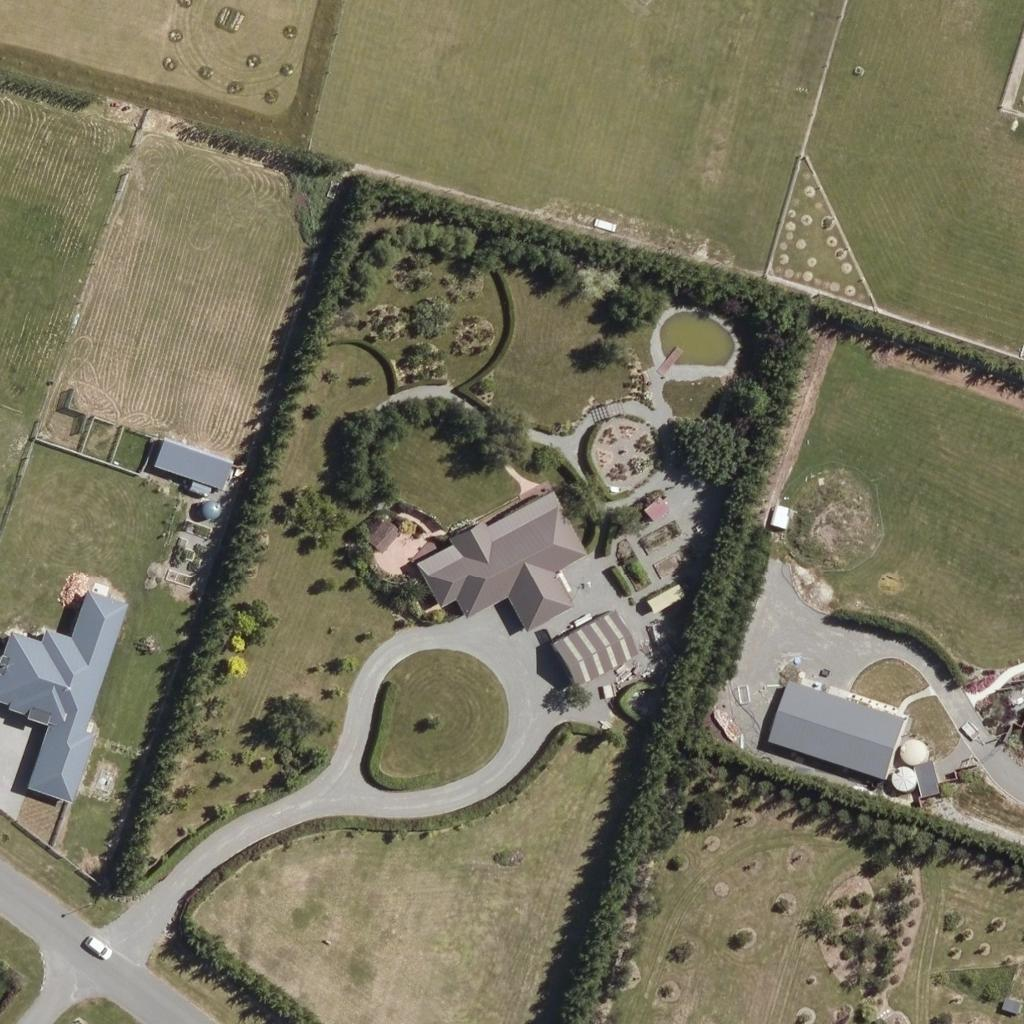car: (81, 929, 115, 963)
